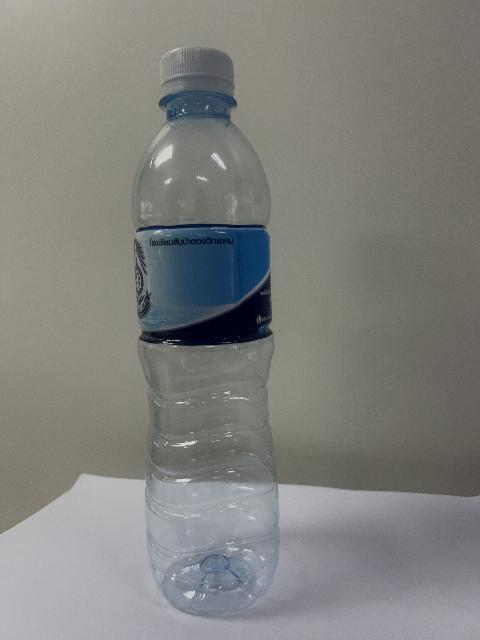bottle: (133, 47, 278, 615)
